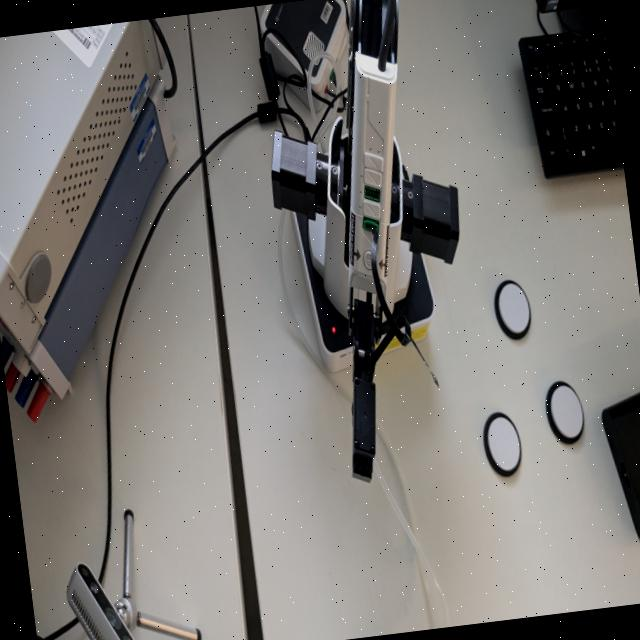Robot-end-effector-HF8z: (336, 366, 394, 492)
